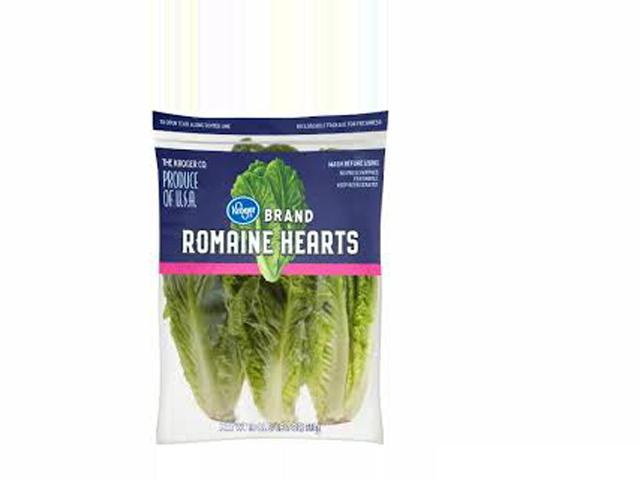lettuce: (142, 116, 397, 433)
